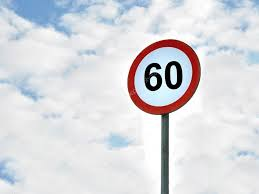Speed_limit_60km: (126, 39, 201, 112)
